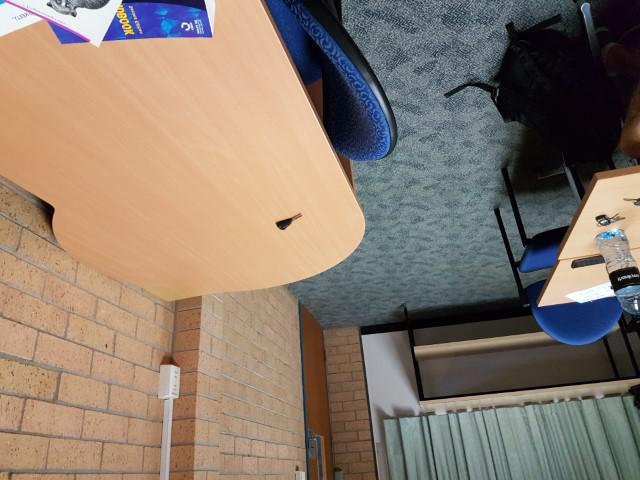key: (276, 213, 303, 230)
